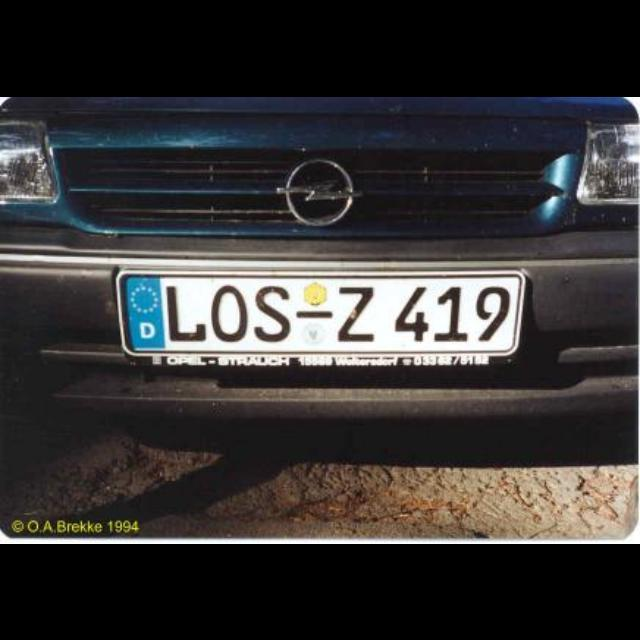license-plates: (120, 274, 526, 366)
